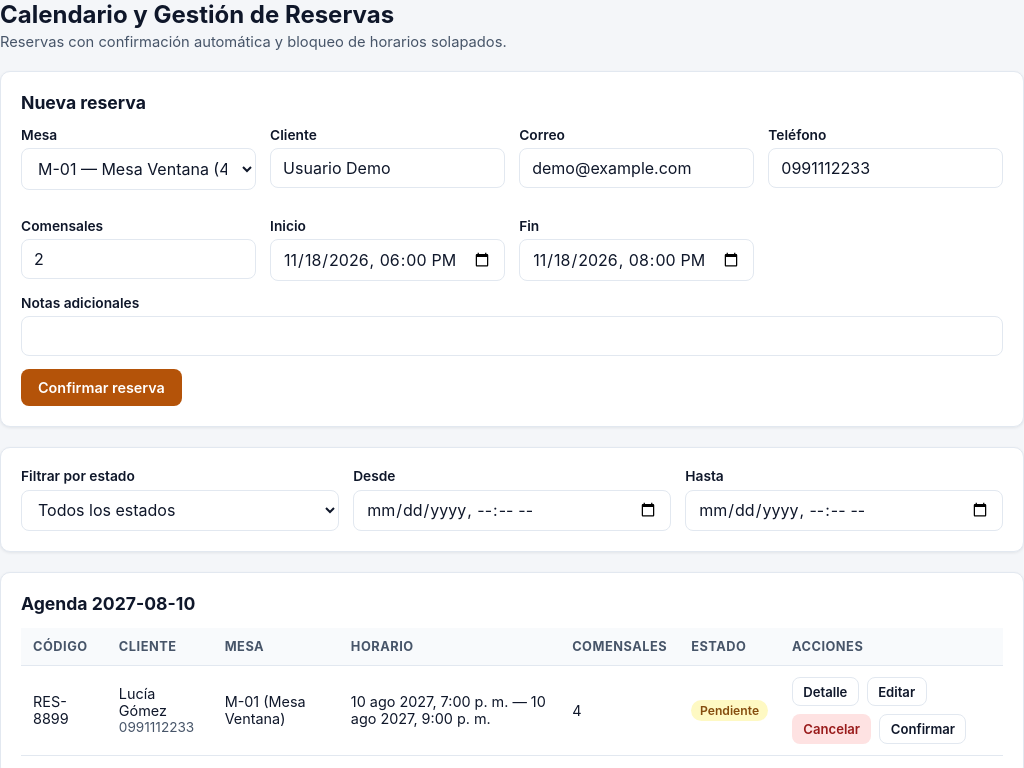
Test: Fase 15 — Cobertura integral de servicios, RBAC, flujos y edge cases › ReservationsPage permite ver detalle, editar parcialmente y confirmar/cancelar
The image size is (1024, 768).
Later steps or results of the test are not shown.
Check: the text "RES-8899" is shown, box [21, 666, 107, 755]
Click the button "Detalle": (825, 692) [792, 677, 859, 706]
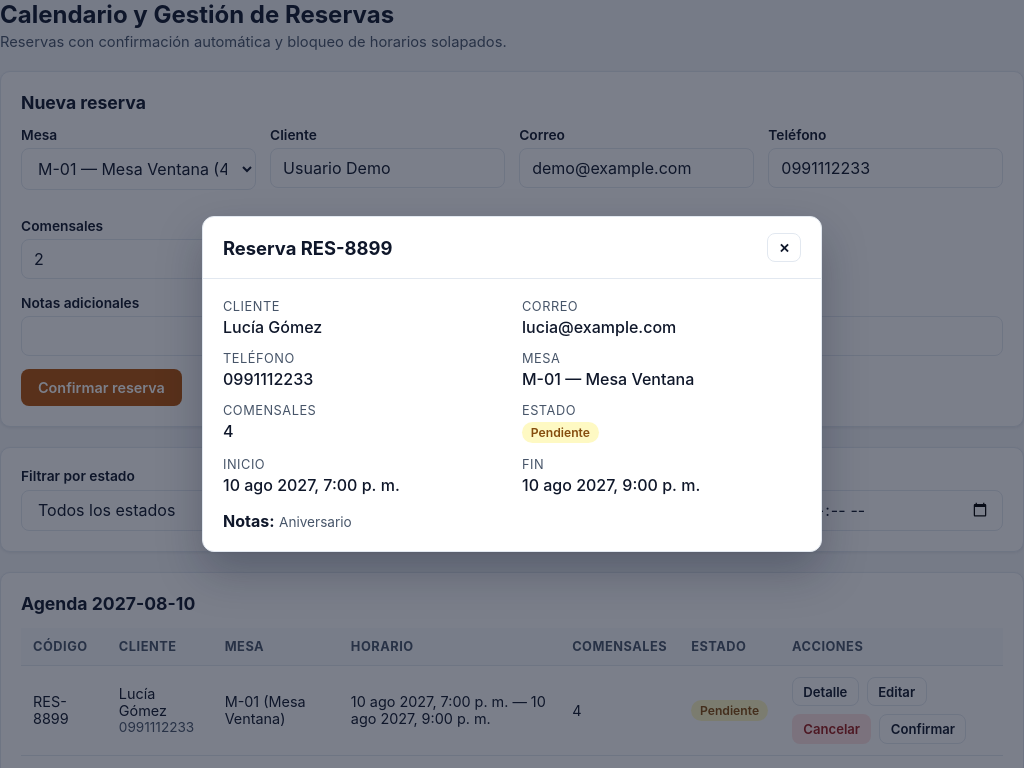
Check: the dialog shows "Aniversario", box [279, 514, 352, 530]
Click the button named "Cerrar ventana": (784, 248) [767, 233, 801, 262]
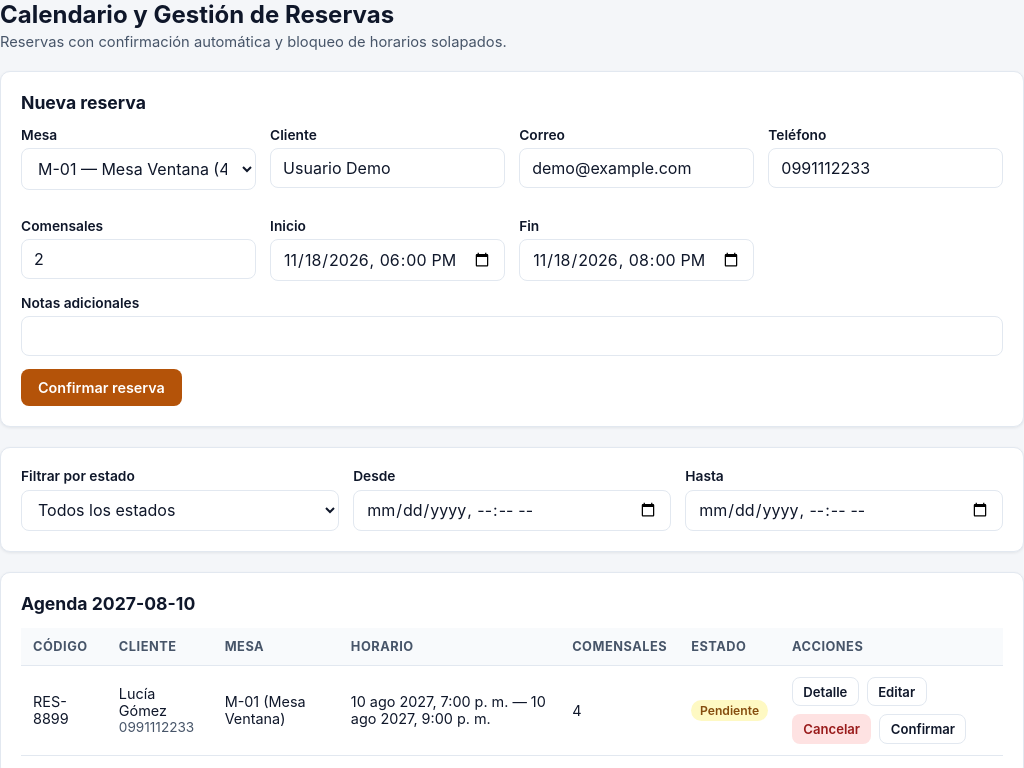
Click the button "Editar": (897, 692) [867, 677, 926, 706]
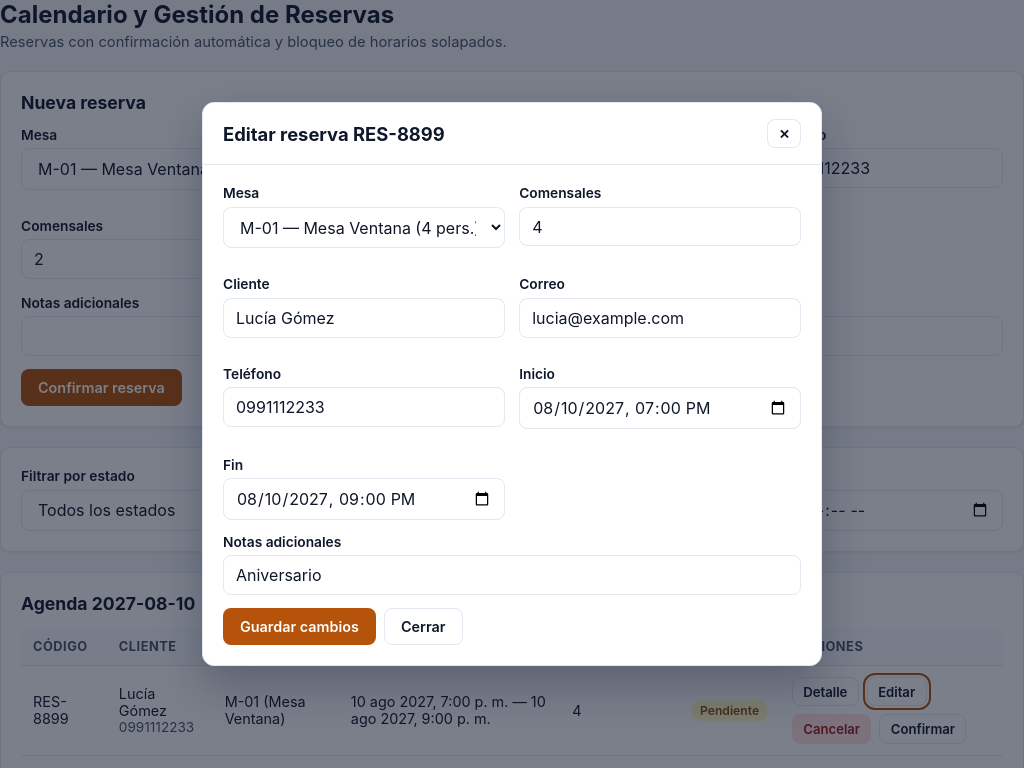
Replace the text in the number field labelled "Comensales" with "3": (660, 227) [519, 207, 801, 246]
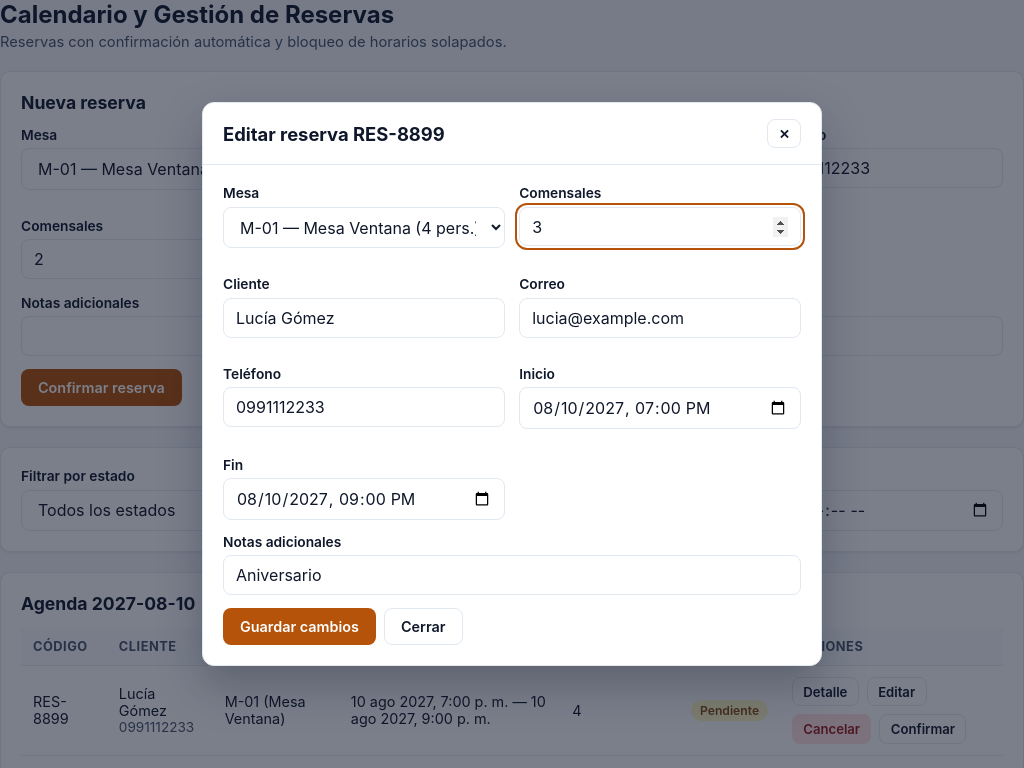
Click the button "Guardar cambios": (300, 627) [223, 608, 376, 645]
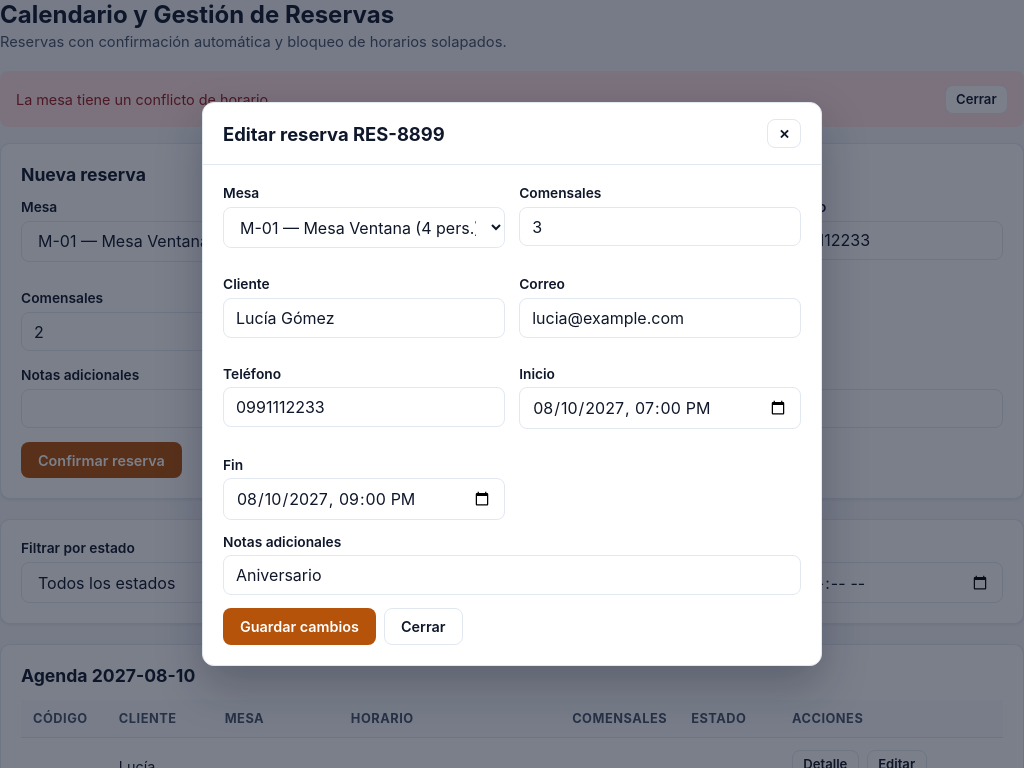
Check: the message shows "La mesa tiene un conflicto de horario.", box [16, 91, 272, 108]
